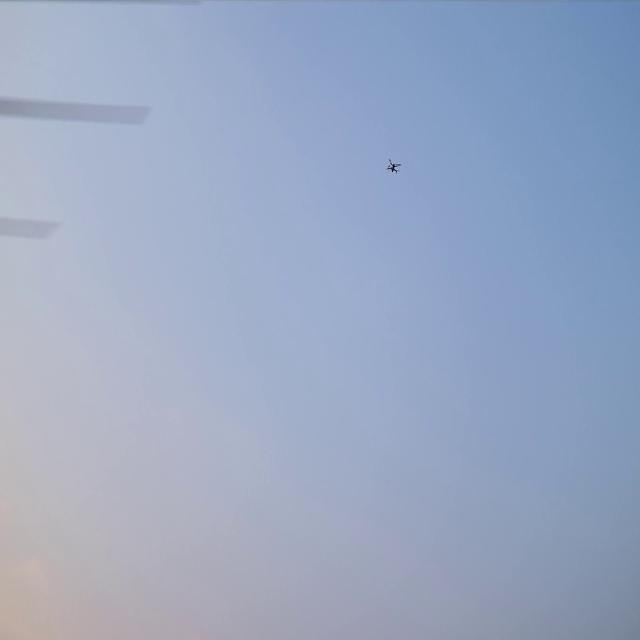UAV: (388, 160, 400, 172)
